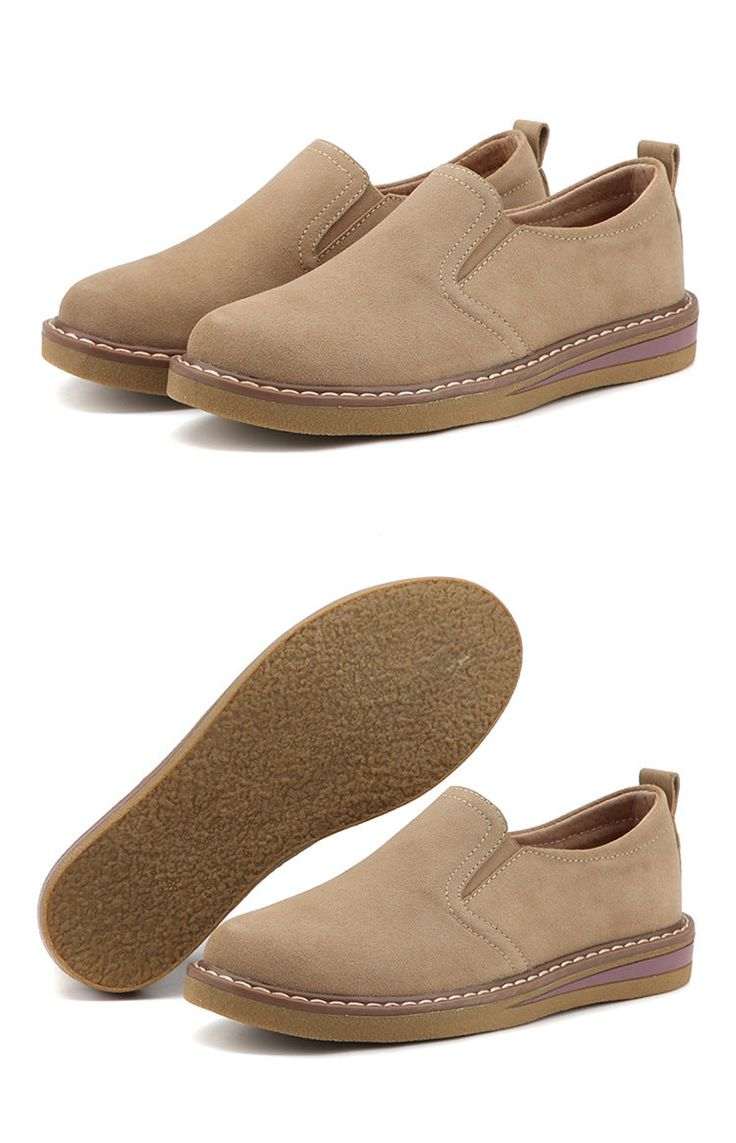gamuza: (57, 130, 686, 999)
